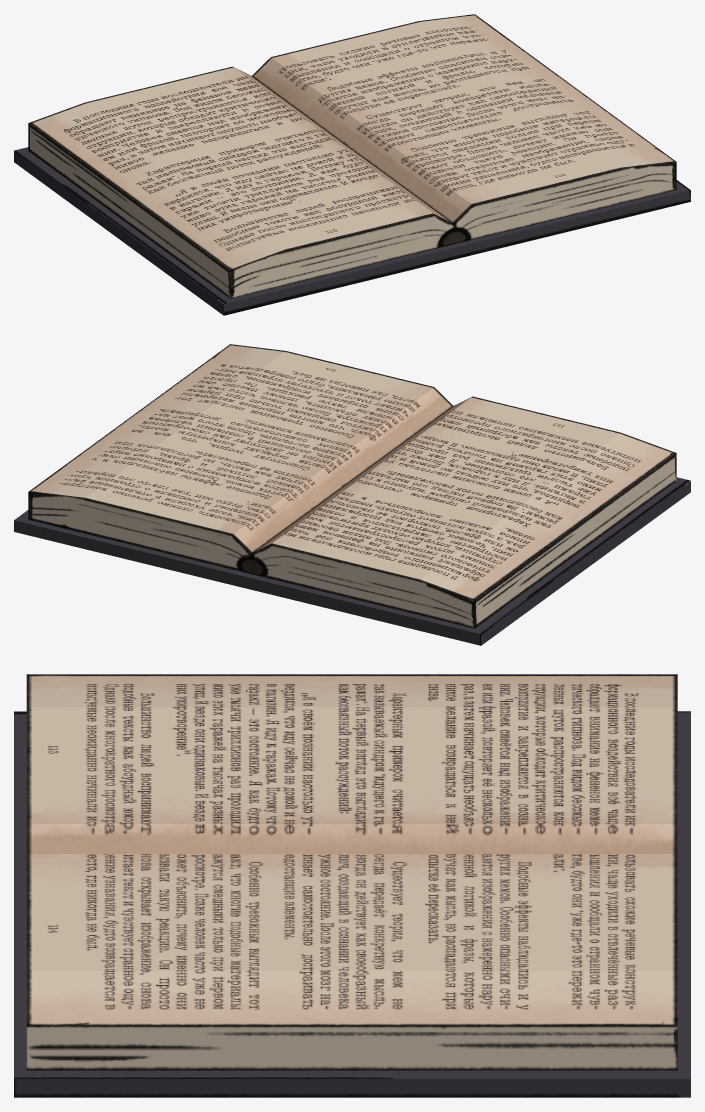
Rendered from table_book.fbx.
3 views of the same model, one above another, from view 1: azimuth 30°, elevation 25°; view 2: azimuth 150°, elevation 25°; view 3: azimuth 270°, elevation 25° (orthographic). The views are drawn at different scales.
Visible parts, largest first — view 1: book_copy; view 2: book_copy; view 3: book_copy.
Boxes of the visible parts, x1,y1,x2,y2 form: book_copy: [14, 14, 690, 315]; book_copy: [14, 344, 690, 645]; book_copy: [14, 674, 690, 1097].
Bounding box in the file's own units: 0.5957 × 0.0565 × 0.4636.
1 material, 1 textured.
